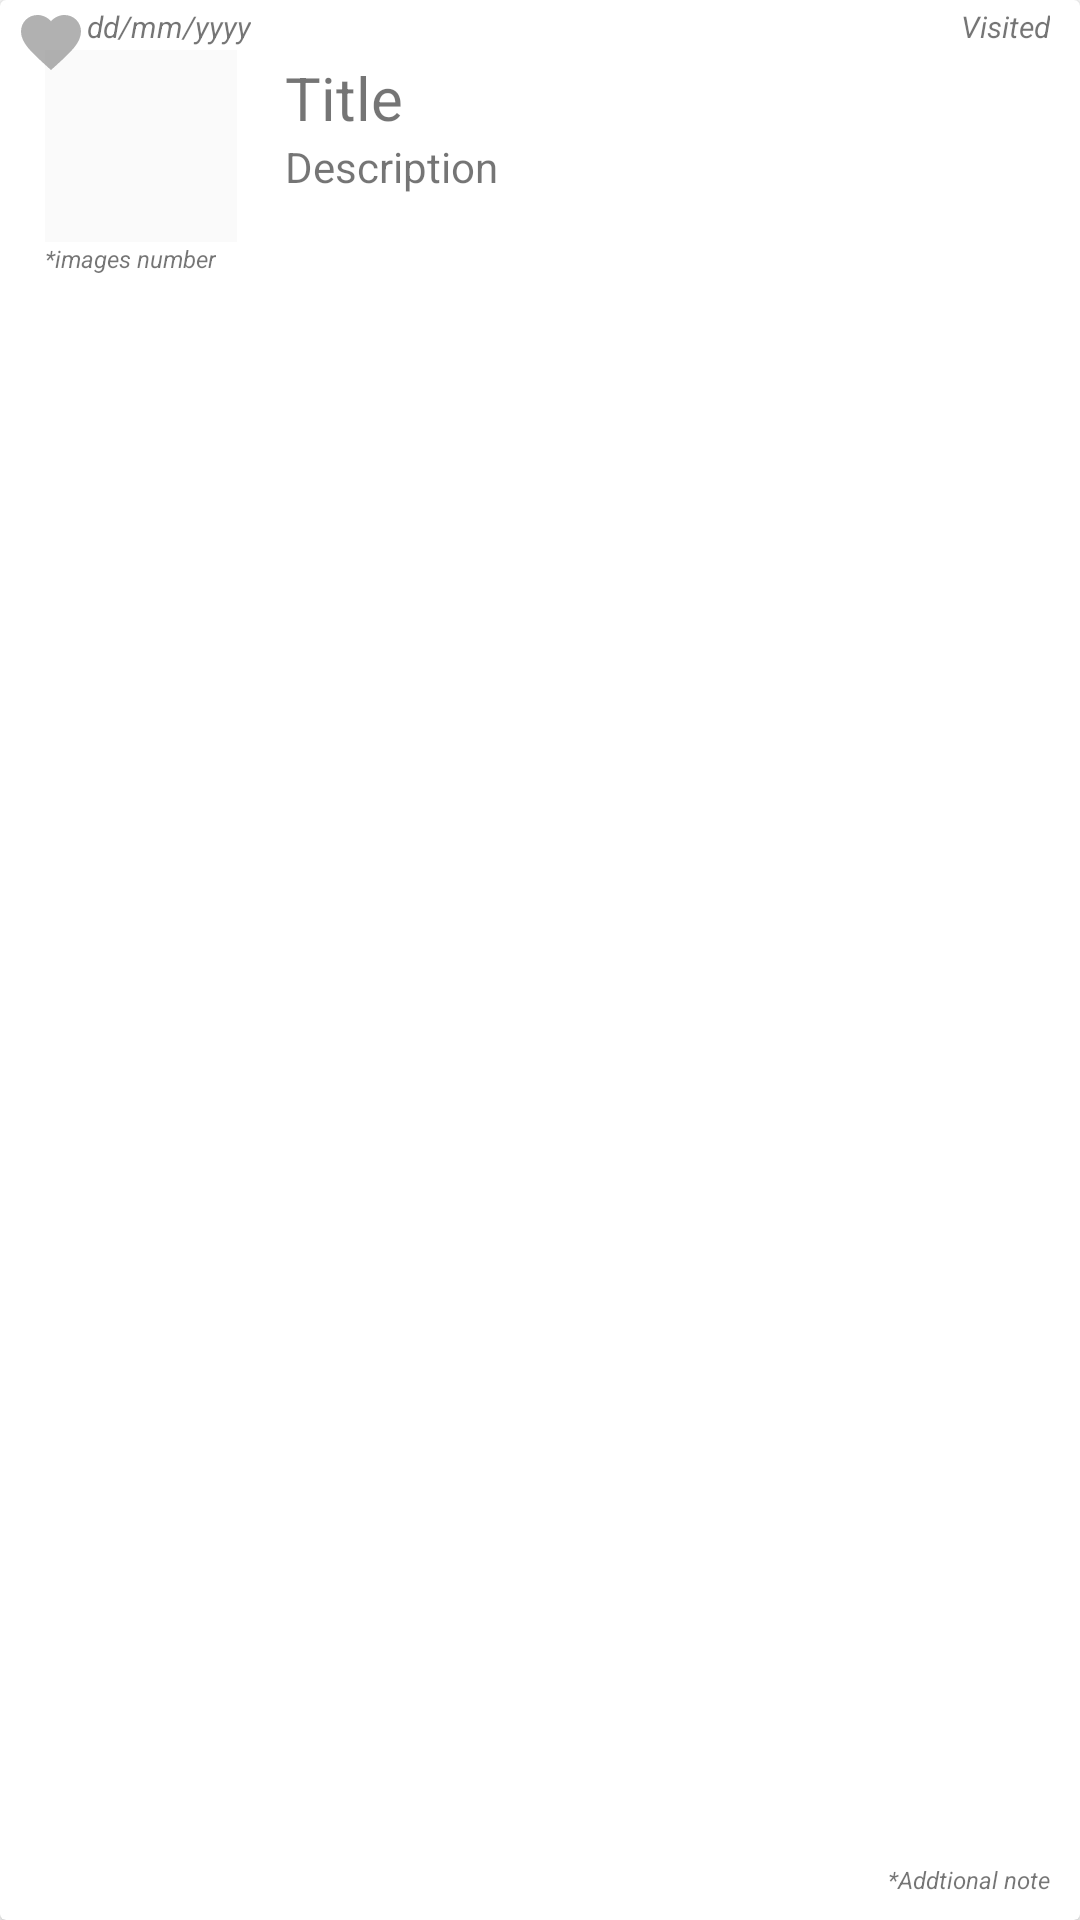

Locate icon controls on the screen. Image size 1080x1920, boxes as (x1, y1, x2, y2).
favorite: (21, 15, 81, 70)
